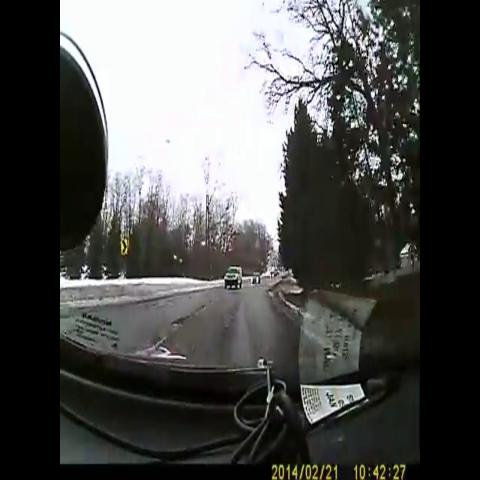pothole: (166, 293, 207, 337)
